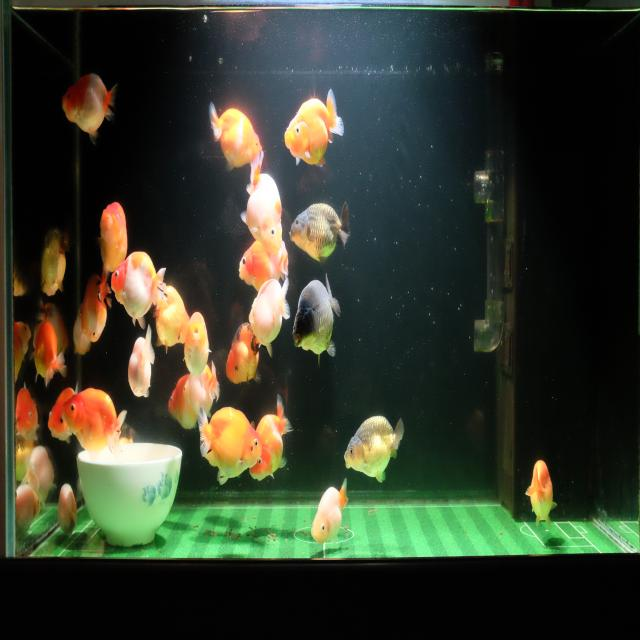Tilapia: (196, 403, 263, 488), (284, 88, 346, 170), (240, 145, 284, 259), (62, 384, 127, 458), (291, 272, 342, 366), (109, 249, 167, 331), (59, 71, 118, 150), (342, 412, 406, 484), (288, 197, 353, 266), (207, 97, 264, 175), (244, 272, 292, 358), (248, 391, 292, 483), (71, 261, 113, 357), (152, 279, 192, 355), (238, 235, 288, 295), (35, 220, 71, 302), (30, 313, 66, 390), (310, 476, 349, 547), (224, 317, 263, 388), (182, 360, 221, 423), (98, 198, 128, 279), (526, 457, 557, 532), (24, 442, 58, 510), (182, 308, 212, 384), (126, 327, 156, 400), (47, 380, 80, 445), (165, 373, 197, 431), (15, 481, 42, 540), (14, 381, 38, 444), (55, 479, 79, 540), (14, 317, 32, 389)
